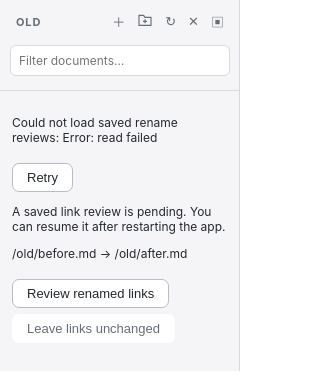
Test: 재조회·작업 삭제 실패에도 기존 보류 기록을 보존한다
The image size is (320, 388).
What coordinates should you click on to do the following:
click the button "Leave links unchanged"
I would click on:
 (94, 328)
Its box is [12,314,175,343].
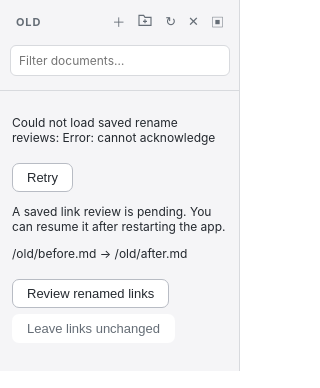
Expected: the text "/old/after.md" is shown, [115,246,187,261]
Result: the text "cannot acknowledge" is shown at [62,130,215,145]
